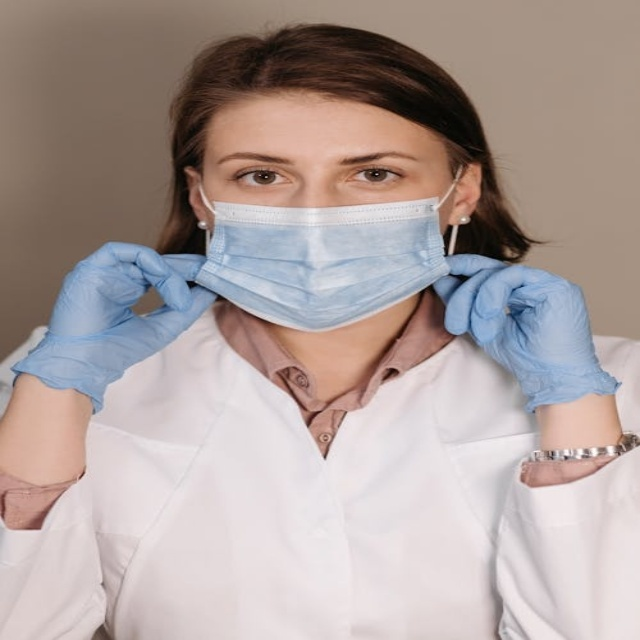Guantes: (9, 242, 219, 414), (428, 254, 619, 412)
Mascara: (191, 166, 458, 329)
Sin_gafas: (207, 143, 425, 196)
